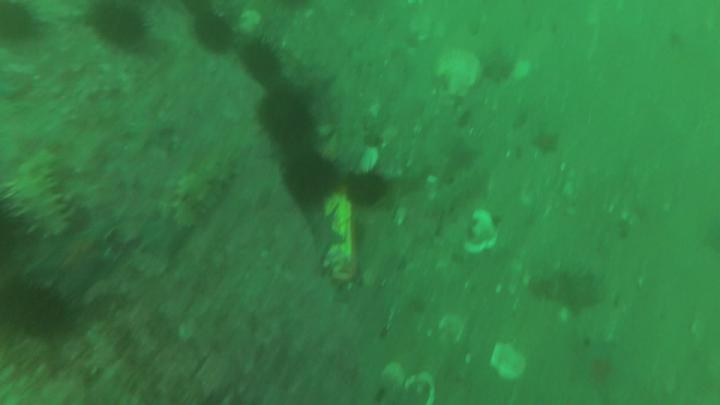echinus: (5, 278, 67, 340), (283, 149, 336, 212), (86, 5, 150, 51), (260, 93, 310, 140), (193, 16, 235, 57), (2, 1, 36, 47), (244, 41, 280, 82), (346, 174, 388, 209)
holothurian: (11, 151, 72, 240), (176, 157, 237, 225)
scallop: (437, 49, 482, 100), (358, 147, 381, 174), (240, 8, 259, 33)
starfish: (579, 345, 626, 396)
